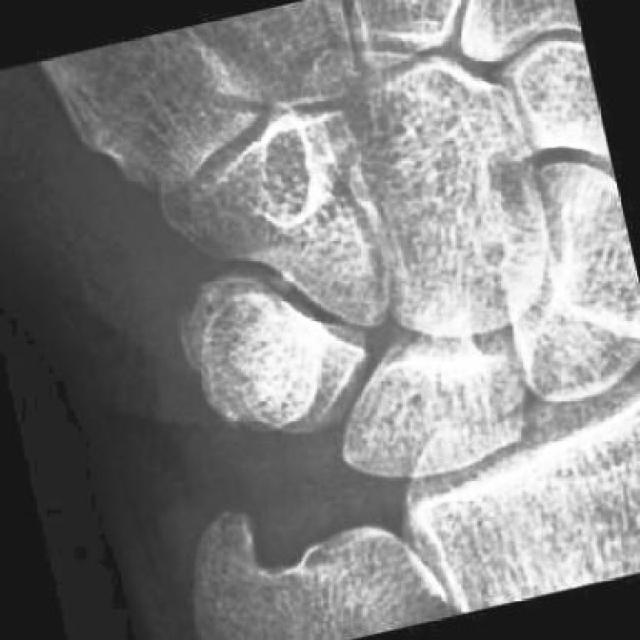Fracture: (172, 251, 323, 394)
